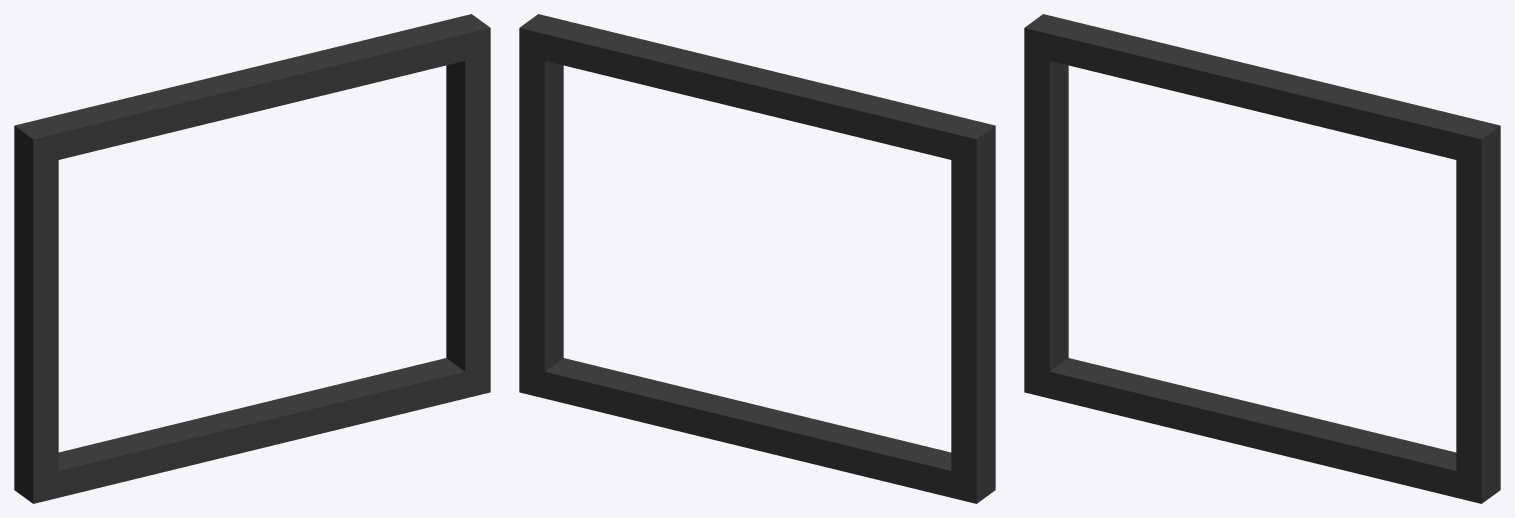
Rendered from Window4_01_2.fbx.
3 renders of one model, left to right at view 1: azimuth 30°, elevation 25°; view 2: azimuth 150°, elevation 25°; view 3: azimuth 330°, elevation 25°, orthographic.
Parts seen in each view (by area): view 1: Window4_01_2; view 2: Window4_01_2; view 3: Window4_01_2.
Boxes of the visible parts, bbox=[...] form: Window4_01_2: bbox=[14, 14, 490, 503]; Window4_01_2: bbox=[519, 14, 995, 503]; Window4_01_2: bbox=[1024, 14, 1500, 503].
Size of the model in its own units: 80.38 by 61.23 by 5.76.
